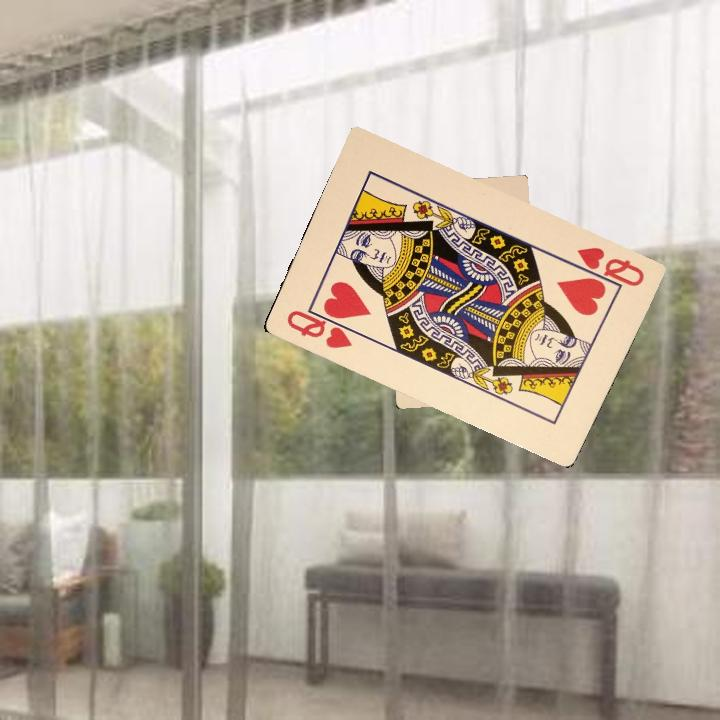Qh: (565, 242, 647, 292), (282, 303, 361, 352)
